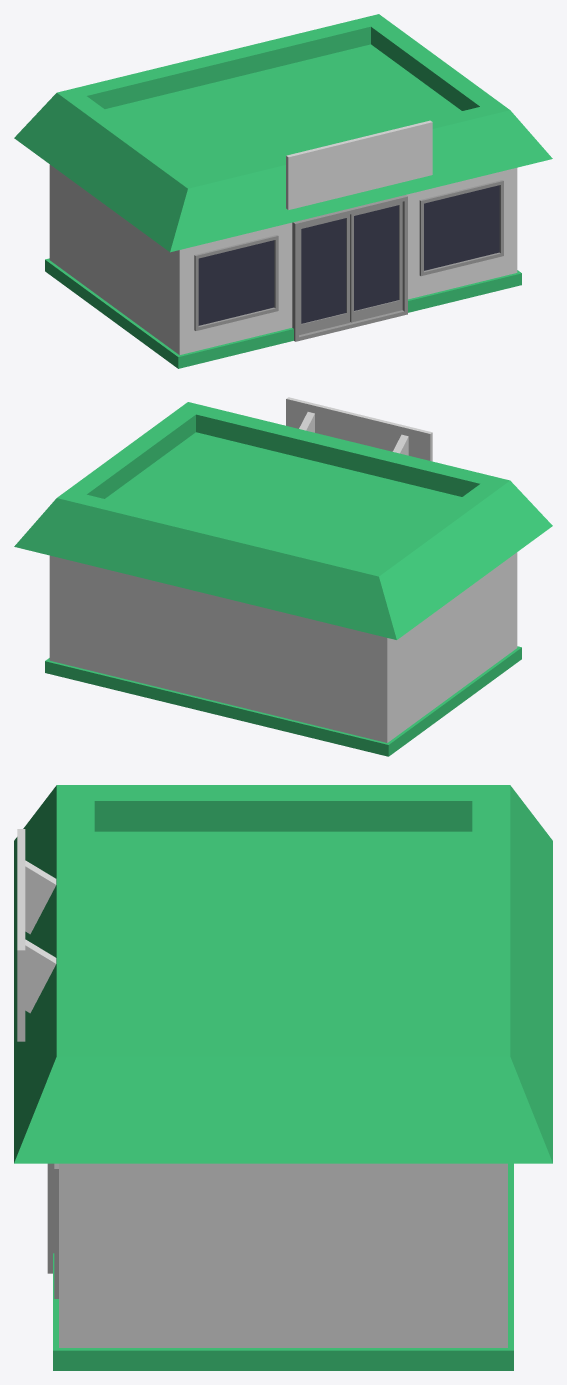
Rendered from shop_thumb_2.glb.
3 views of the same model, one above another, from view 1: azimuth 30°, elevation 25°; view 2: azimuth 150°, elevation 25°; view 3: azimuth 270°, elevation 25° (orthographic). The views are drawn at different scales.
Parts seen in each view (by area): view 1: Roof, Main building, Glass, Sign, Doors, Bottom section, Window frames; view 2: Roof, Main building, Bottom section, Sign; view 3: Roof, Main building, Bottom section, Sign, Doors.
Boxes of the visible parts, x1,y1,x2,y2 form: Roof: (14,14,552,252); Main building: (49,164,517,355); Glass: (198,185,499,325); Sign: (286,120,432,209); Doors: (292,195,407,341); Bottom section: (45,258,521,368); Window frames: (194,180,503,330); Roof: (14,402,552,639); Main building: (49,552,517,742); Bottom section: (45,646,521,756); Sign: (286,397,432,461); Roof: (14,785,552,1163); Main building: (59,1163,507,1347); Bottom section: (53,1163,513,1370); Sign: (17,829,56,1041); Doors: (47,1163,54,1273).
Size of the model in its own units: 0.068 by 0.0331 by 0.048.
